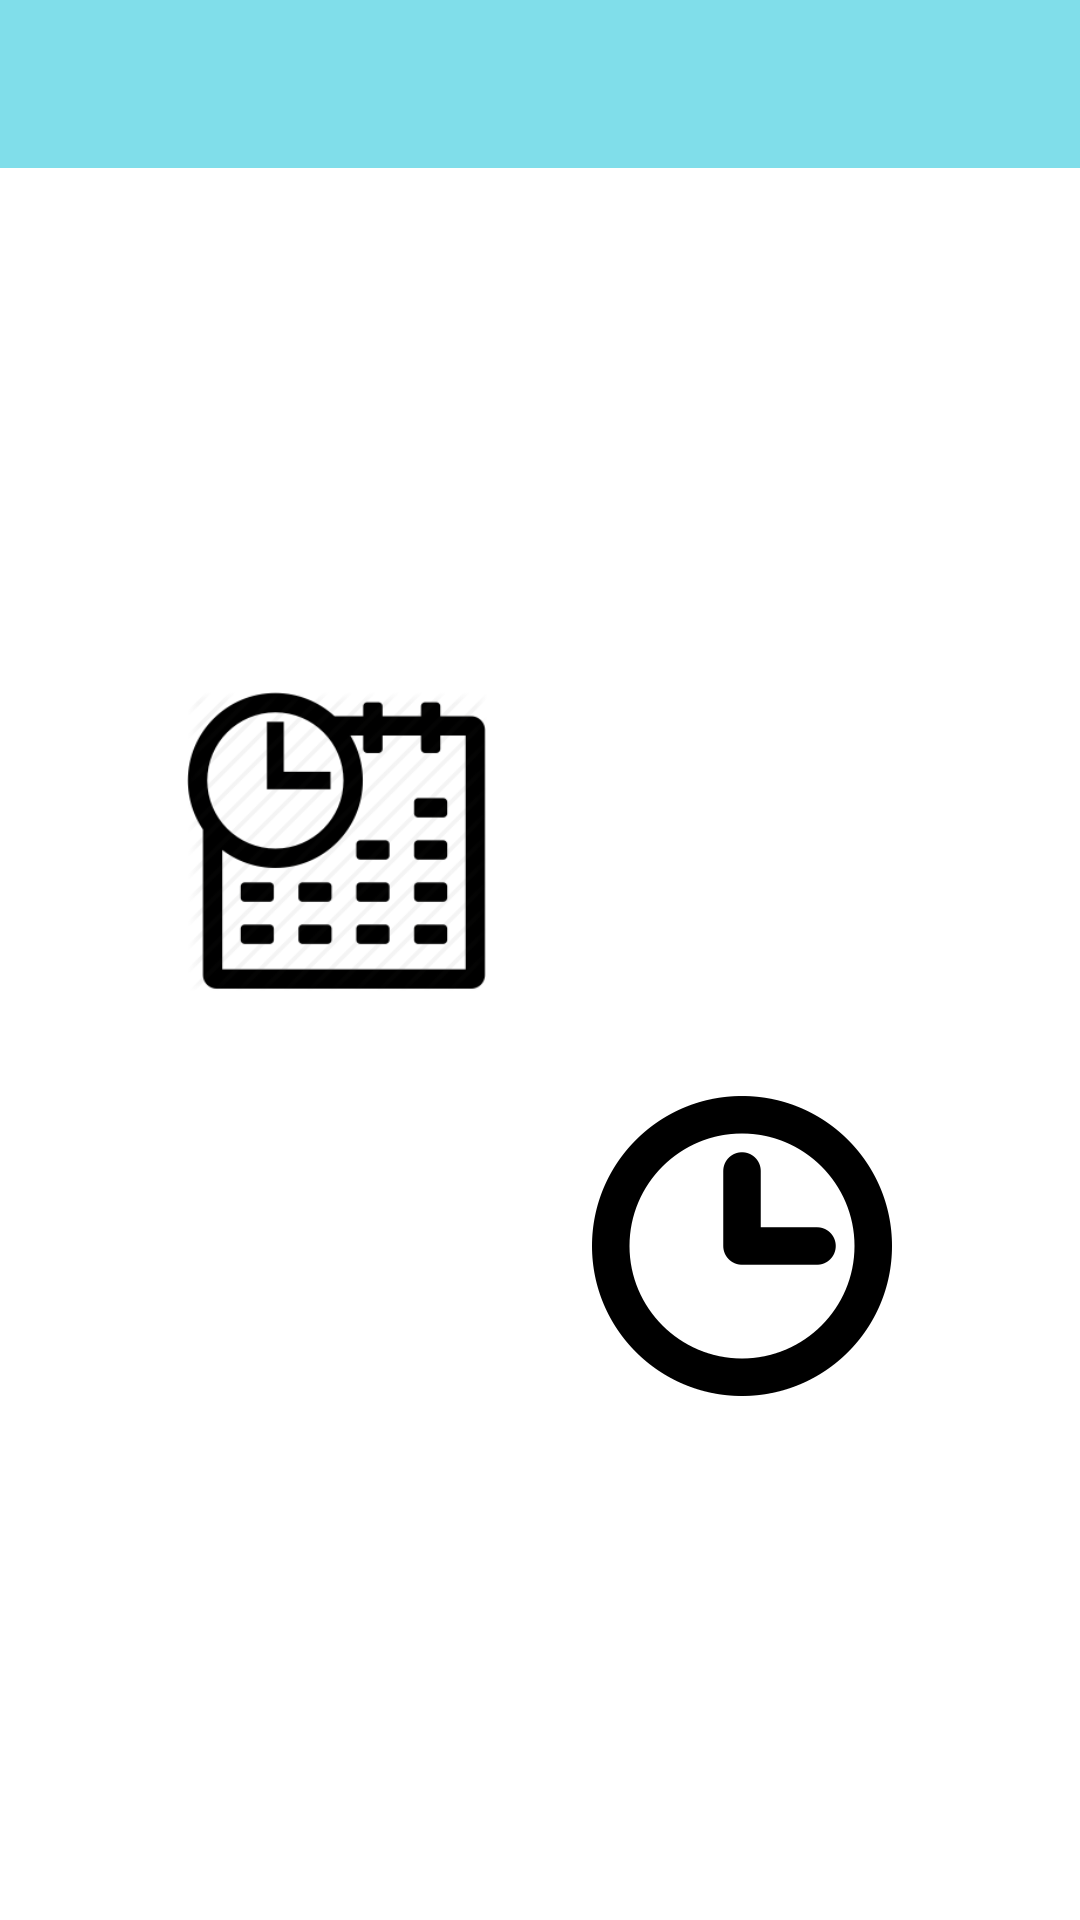

Locate icon controls on the screen. Image size 1080px×1920px, boxes as bbox(x1, y1, x2, y2).
agendaw: bbox(187, 692, 486, 989)
horarios: bbox(592, 1096, 892, 1396)
